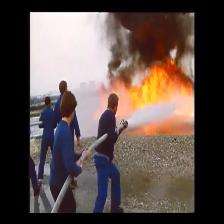fire: (126, 60, 197, 106)
smoke: (103, 11, 195, 58)
